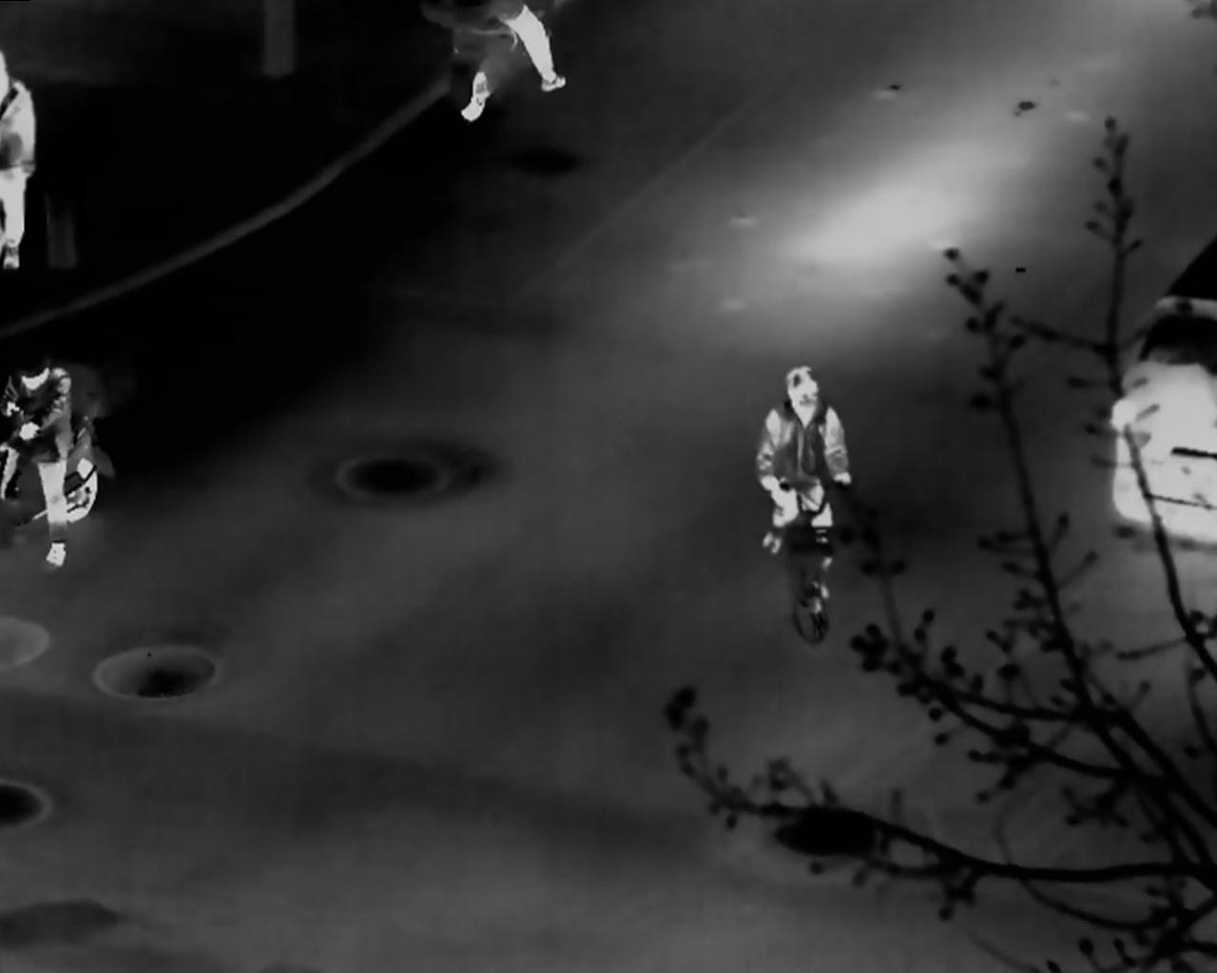person: (757, 363, 853, 555), (2, 351, 74, 567), (2, 50, 38, 270)
